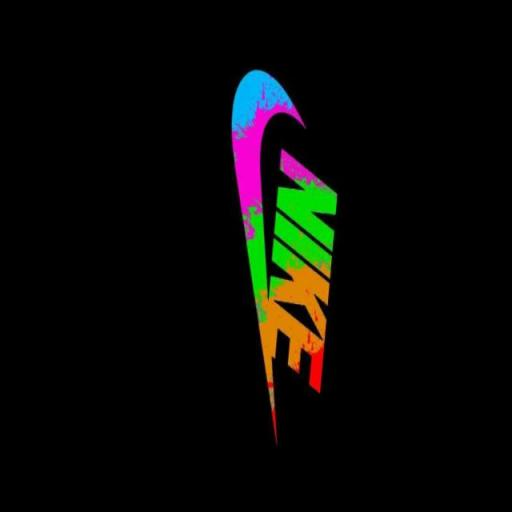Nike: (209, 68, 290, 358), (255, 146, 342, 400)
